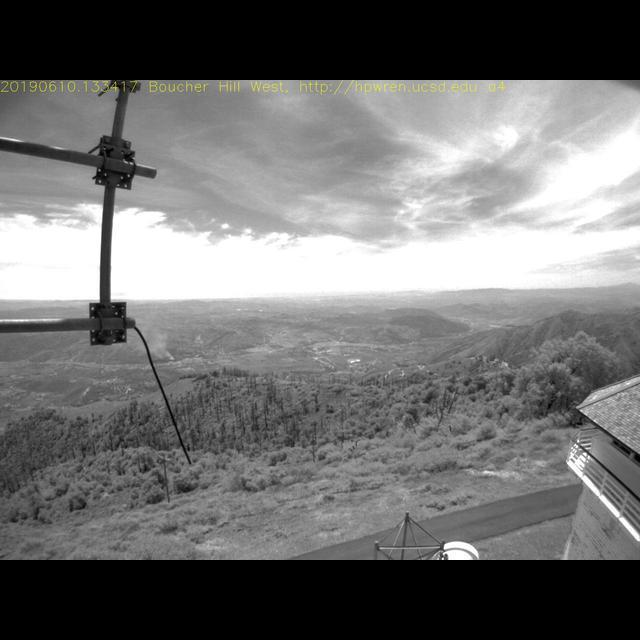Smoke: (130, 298, 181, 365)
